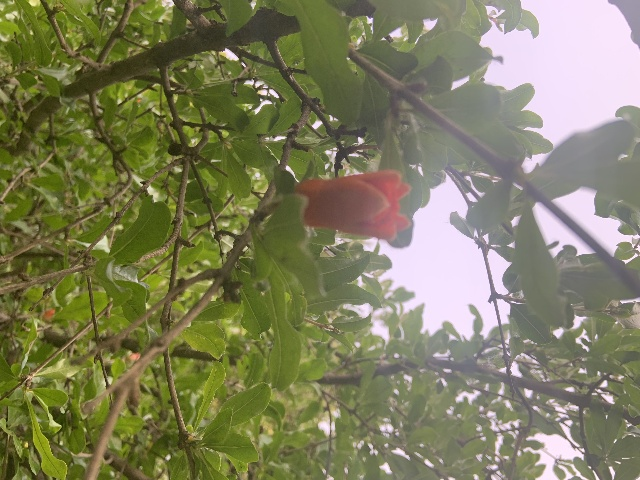flower: (293, 169, 411, 242)
